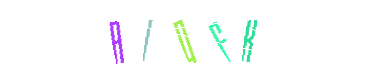A: (76, 0, 156, 80)
F: (147, 0, 227, 80)
I: (144, 0, 224, 80)
K: (197, 0, 277, 80)
Q: (147, 0, 227, 80)
